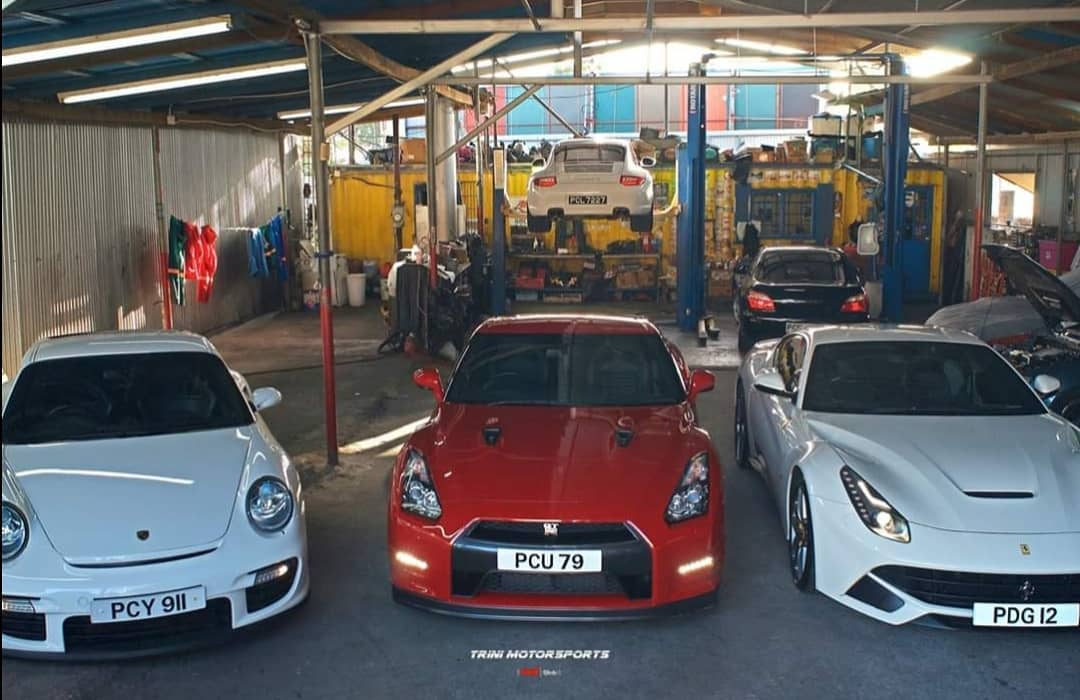License-Plate: (973, 602, 1079, 624), (497, 548, 601, 570), (93, 600, 199, 621), (568, 195, 606, 204)
